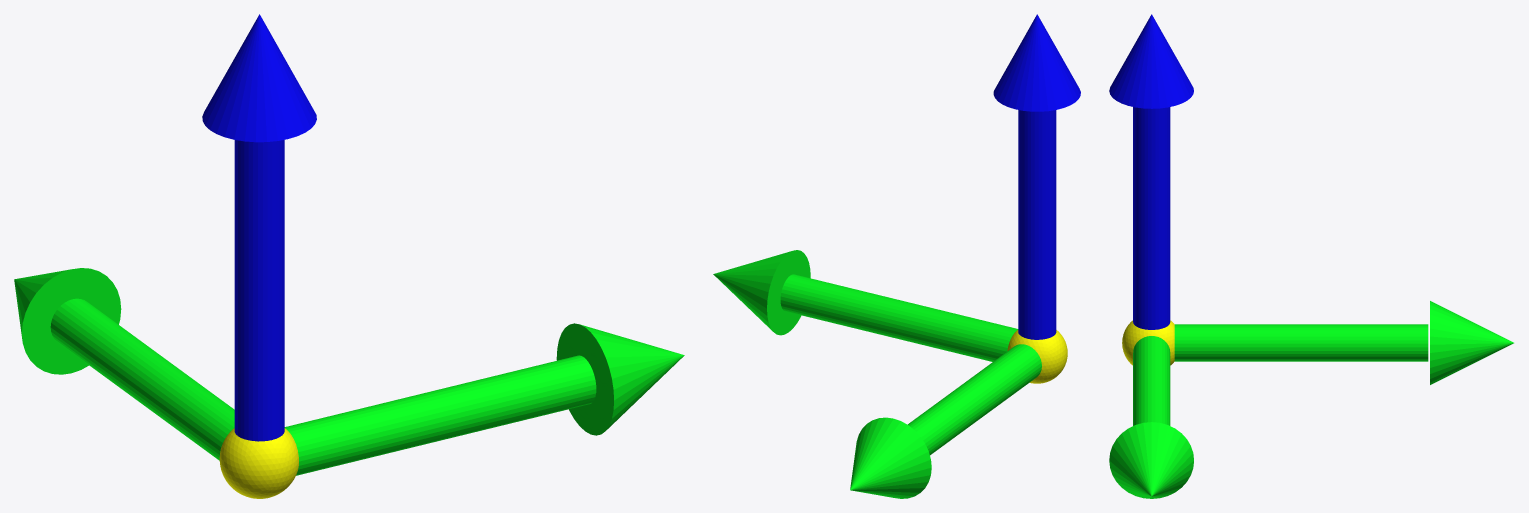
Rendered from coordinate-system.dae.
The picture shows the model from 3 angles, left to right: view 1: azimuth 30°, elevation 25°; view 2: azimuth 150°, elevation 25°; view 3: azimuth 270°, elevation 25°; orthographic projection. The views are drawn at different scales.
Parts seen in each view (by area): view 1: Z-Axis, X-Axis, Y-Axis, Icosphere; view 2: Z-Axis, X-Axis, Y-Axis, Icosphere; view 3: Y-Axis, Z-Axis, X-Axis, Icosphere.
Part boxes in pixels (bbox=[...]): Z-Axis: bbox=[202, 14, 316, 441]; X-Axis: bbox=[284, 323, 684, 475]; Y-Axis: bbox=[14, 268, 234, 460]; Icosphere: bbox=[219, 428, 298, 498]; Z-Axis: bbox=[993, 14, 1080, 339]; X-Axis: bbox=[713, 250, 1018, 361]; Y-Axis: bbox=[850, 344, 1041, 498]; Icosphere: bbox=[1007, 330, 1067, 383]; Y-Axis: bbox=[1174, 301, 1513, 384]; Z-Axis: bbox=[1109, 14, 1193, 329]; X-Axis: bbox=[1109, 336, 1193, 498]; Icosphere: bbox=[1122, 320, 1174, 365].
Size of the model in its own units: 9.11 by 9.11 by 9.11.
